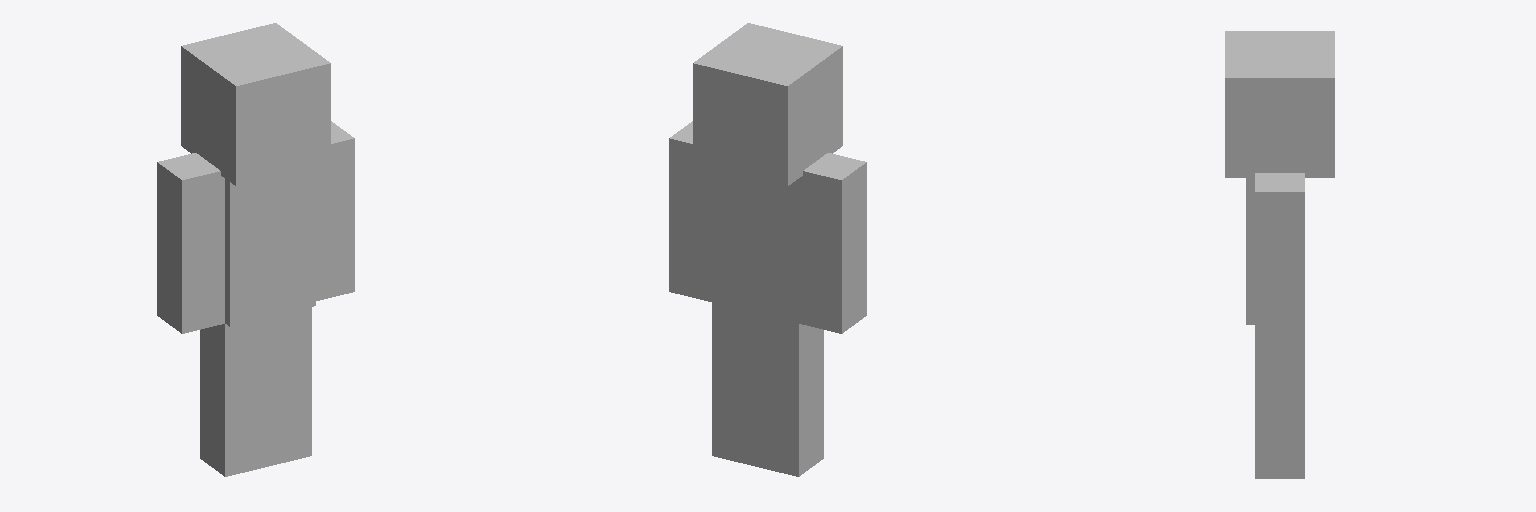
The model's file is timber1.obj.
3 views of the same model, side by side, from view 1: azimuth 30°, elevation 25°; view 2: azimuth 150°, elevation 25°; view 3: azimuth 270°, elevation 25° (orthographic).
Parts seen in each view (by area): view 1: Player_Cube; view 2: Player_Cube; view 3: Player_Cube.
Part boxes in pixels (left/top/right/bottom): Player_Cube: left=157, top=23, right=354, bottom=476; Player_Cube: left=669, top=23, right=866, bottom=476; Player_Cube: left=1225, top=31, right=1334, bottom=478.
Size of the model in its own units: 0.8 by 1.78 by 0.4433.